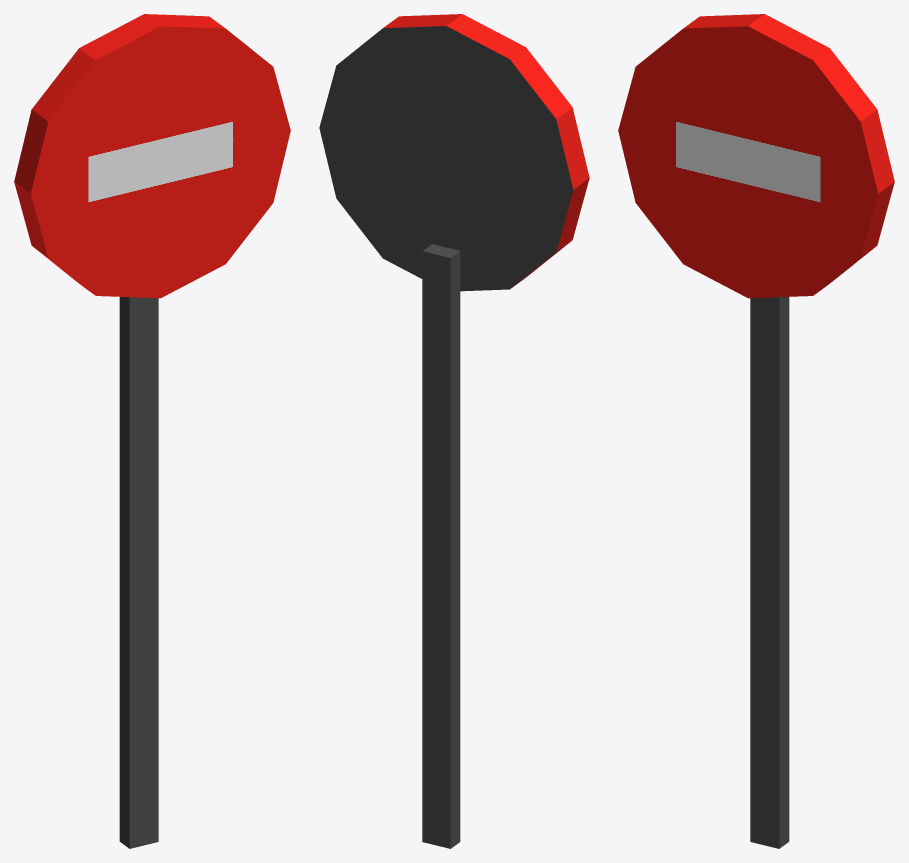
File: traffic_sign_forbidden.glb
3 renders of one model, left to right at view 1: azimuth 30°, elevation 25°; view 2: azimuth 150°, elevation 25°; view 3: azimuth 330°, elevation 25°, orthographic. The views are drawn at different scales.
Parts seen in each view (by area): view 1: Circle, Plane; view 2: Circle, Plane; view 3: Circle, Plane.
Part boxes in pixels (x1,y1,x2,y2): Circle: [14, 14, 290, 298]; Plane: [119, 297, 158, 848]; Circle: [319, 14, 589, 291]; Plane: [422, 244, 460, 848]; Circle: [618, 14, 894, 298]; Plane: [750, 297, 789, 848].
Size of what is drawn, in the model's own units: 0.9 by 2.75 by 0.16.
4 materials, 1 textured.
